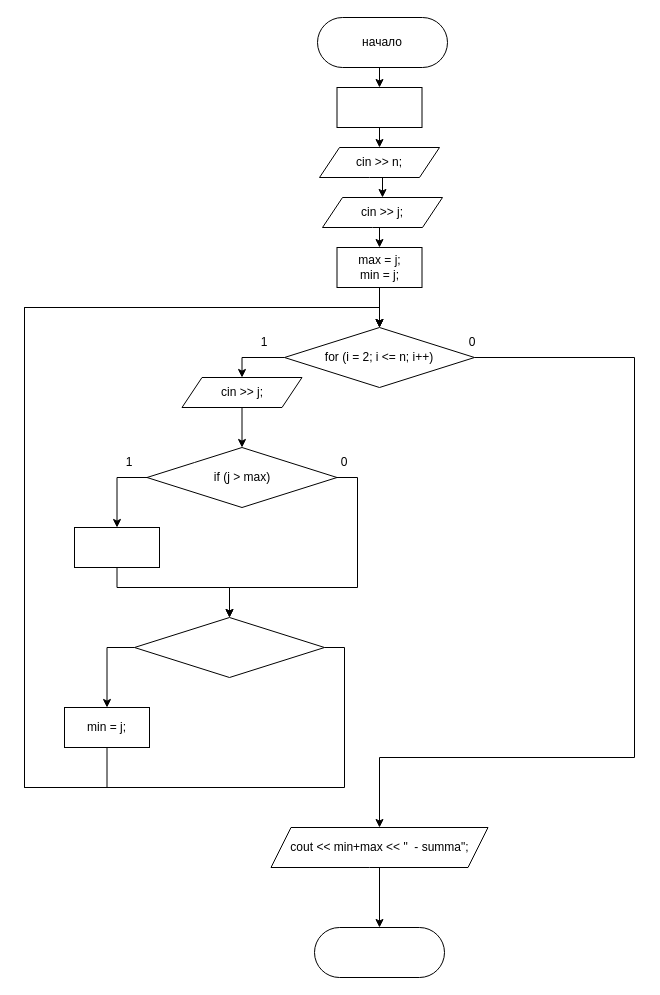
Some shapes in this 660 by 995 pixel diagram are drawn without their labels. Here are the shapes that lost their labels. From the top down, the centre of each, then its label:
At (379,107): "int n,i,j;".
At (117,547): "max = j;".
At (229,647): "if (j < min)".
At (379,952): "конец".
